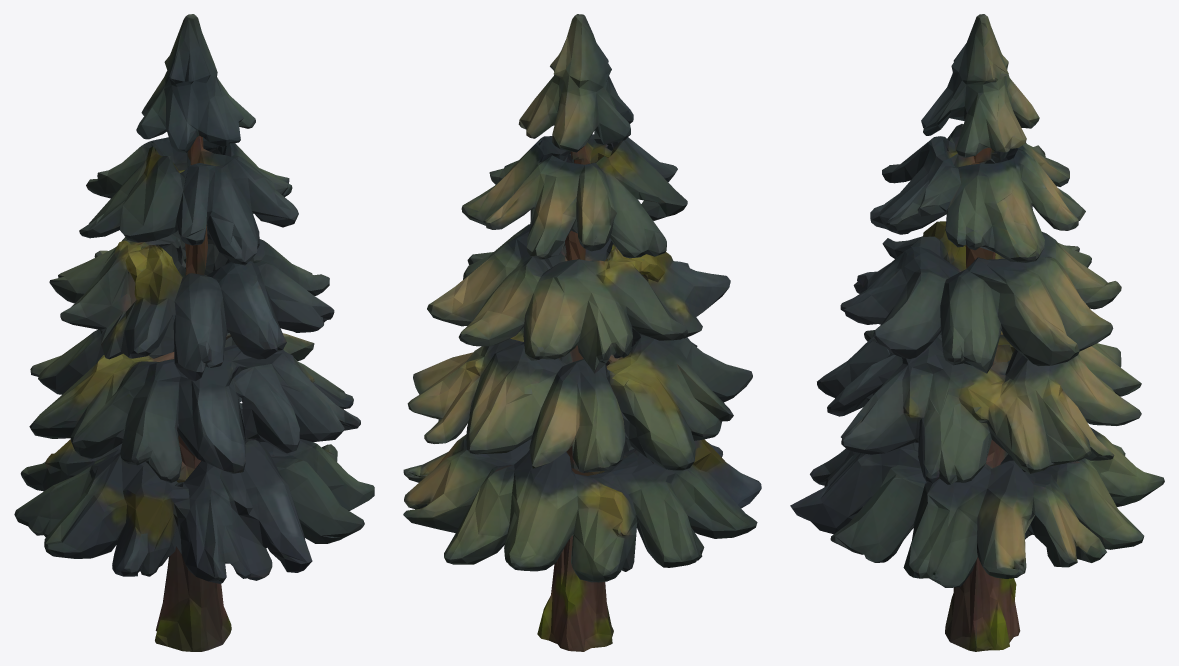
The model's file is pine2.glb.
3 renders of one model, left to right at view 1: azimuth 30°, elevation 25°; view 2: azimuth 150°, elevation 25°; view 3: azimuth 270°, elevation 25°, orthographic.
Visible parts, largest first — view 1: world; view 2: world; view 3: world.
Boxes of the visible parts, x1,y1,x2,y2 form: world: [14, 14, 374, 651]; world: [403, 14, 761, 651]; world: [790, 14, 1164, 651].
Size of the model in its own units: 0.5416 by 1 by 0.5488.
Materials: 1 (1 with a texture image).
